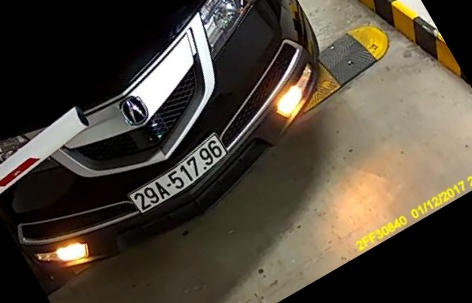plate: (127, 133, 232, 216)
